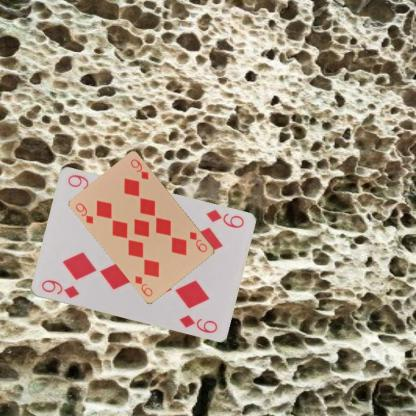9d: (203, 207, 245, 230), (39, 277, 80, 300), (187, 228, 209, 254), (73, 200, 95, 225)
